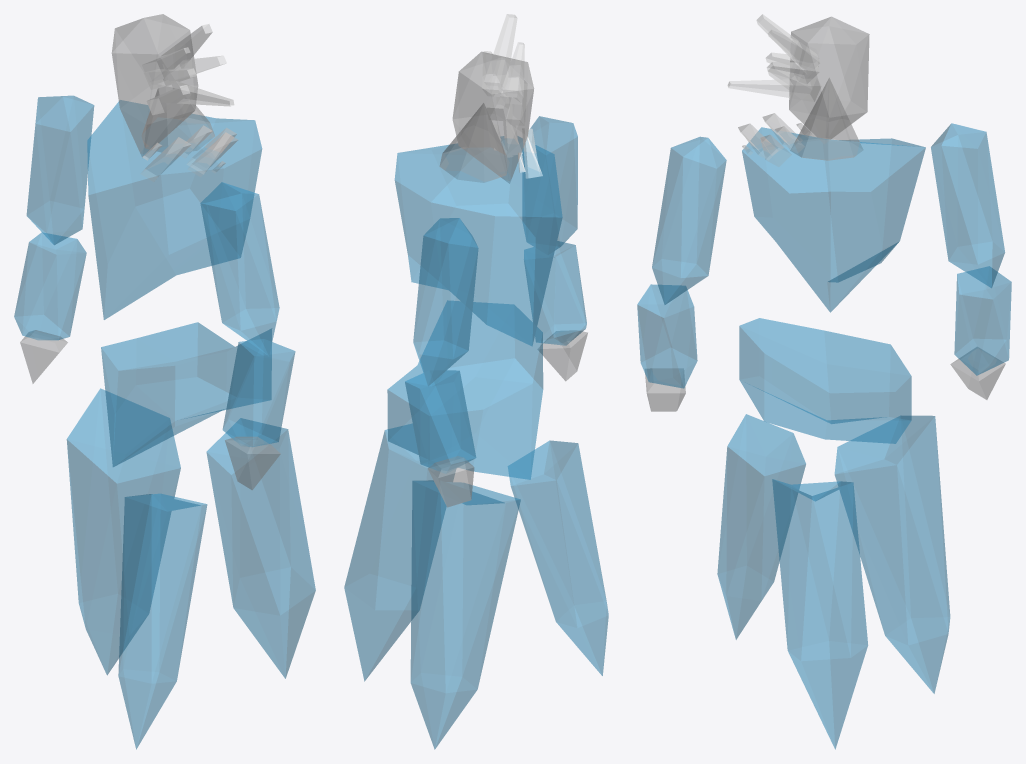
Rendered from ghostIdle19.obj.
The picture shows the model from 3 angles, left to right: view 1: azimuth 30°, elevation 25°; view 2: azimuth 150°, elevation 25°; view 3: azimuth 270°, elevation 25°; orthographic projection. The views are drawn at different scales.
Visible parts, largest first — view 1: Cube.001_Cube.001, Icosphere.005, Icosphere.004, Cube_Cube.002, Icosphere.003, Icosphere.005_Icosphere.001, Icosphere.003_Icosphere.001, Icosphere.007_Icosphere.001, Icosphere.008_Icosphere.001, Icosphere.006_Icosphere.001, Cone_Cone.002, Cube.002_Cube.001 (+10 smaller); view 2: Cube.001_Cube.001, Cube_Cube.002, Icosphere.005, Icosphere.004, Icosphere.003, Icosphere.007_Icosphere.001, Icosphere.003_Icosphere.001, Icosphere.005_Icosphere.001, Icosphere.008_Icosphere.001, Icosphere.006_Icosphere.001, Cone_Cone.002, Cube.003_Cube.001 (+5 smaller); view 3: Cube.001_Cube.001, Icosphere.005, Icosphere.004, Cube_Cube.002, Icosphere.003, Icosphere.005_Icosphere.001, Icosphere.007_Icosphere.001, Icosphere.003_Icosphere.001, Icosphere.006_Icosphere.001, Icosphere.008_Icosphere.001, Cone_Cone.002, Cube.003_Cube.001 (+4 smaller).
Part boxes in pixels (<box>): Cube.001_Cube.001: <box>87,100,262,319</box>; Icosphere.005: <box>66,388,180,675</box>; Icosphere.004: <box>206,418,315,678</box>; Cube_Cube.002: <box>101,322,271,466</box>; Icosphere.003: <box>118,493,207,749</box>; Icosphere.005_Icosphere.001: <box>200,182,279,355</box>; Icosphere.003_Icosphere.001: <box>111,14,198,157</box>; Icosphere.007_Icosphere.001: <box>26,95,94,244</box>; Icosphere.008_Icosphere.001: <box>14,232,86,340</box>; Icosphere.006_Icosphere.001: <box>222,339,295,447</box>; Cone_Cone.002: <box>142,89,214,152</box>; Cube.002_Cube.001: <box>225,437,280,489</box>; Cube.001_Cube.001: <box>394,136,562,346</box>; Cube_Cube.002: <box>387,300,543,479</box>; Icosphere.005: <box>410,480,520,749</box>; Icosphere.004: <box>344,424,455,681</box>; Icosphere.003: <box>508,440,608,675</box>; Icosphere.007_Icosphere.001: <box>413,218,478,386</box>; Icosphere.003_Icosphere.001: <box>452,51,533,183</box>; Icosphere.005_Icosphere.001: <box>522,116,577,254</box>; Icosphere.008_Icosphere.001: <box>405,370,476,473</box>; Icosphere.006_Icosphere.001: <box>524,241,586,345</box>; Cone_Cone.002: <box>439,103,506,182</box>; Cube.003_Cube.001: <box>428,456,474,507</box>; Cube.001_Cube.001: <box>742,127,925,312</box>; Icosphere.005: <box>834,415,950,693</box>; Icosphere.004: <box>772,479,867,749</box>; Cube_Cube.002: <box>739,318,911,443</box>; Icosphere.003: <box>717,414,805,639</box>; Icosphere.005_Icosphere.001: <box>652,136,726,304</box>; Icosphere.007_Icosphere.001: <box>931,123,1004,287</box>; Icosphere.003_Icosphere.001: <box>789,16,869,139</box>; Icosphere.006_Icosphere.001: <box>637,284,697,388</box>; Icosphere.008_Icosphere.001: <box>954,266,1011,375</box>; Cone_Cone.002: <box>790,78,863,160</box>; Cube.003_Cube.001: <box>950,347,1005,399</box>.
Bounding box in the file's own units: 16.53 × 49.76 × 24.75.
